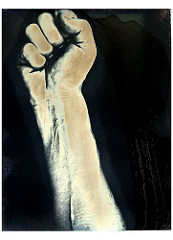fist: (20, 13, 91, 98)
